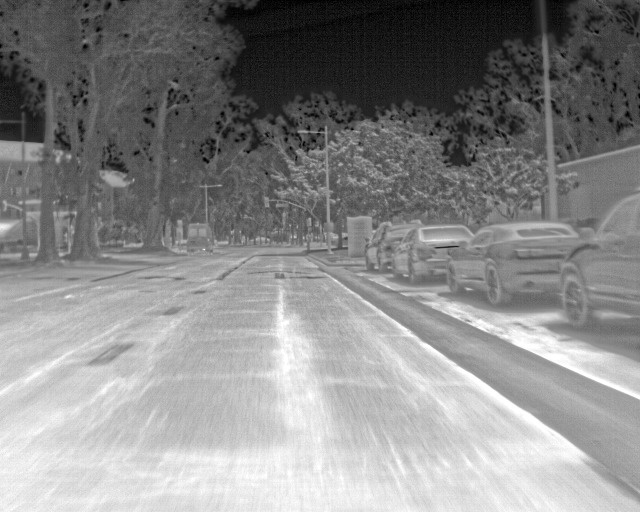vehicle: (451, 216, 577, 312), (560, 194, 640, 339), (399, 222, 472, 286), (363, 219, 415, 273)
